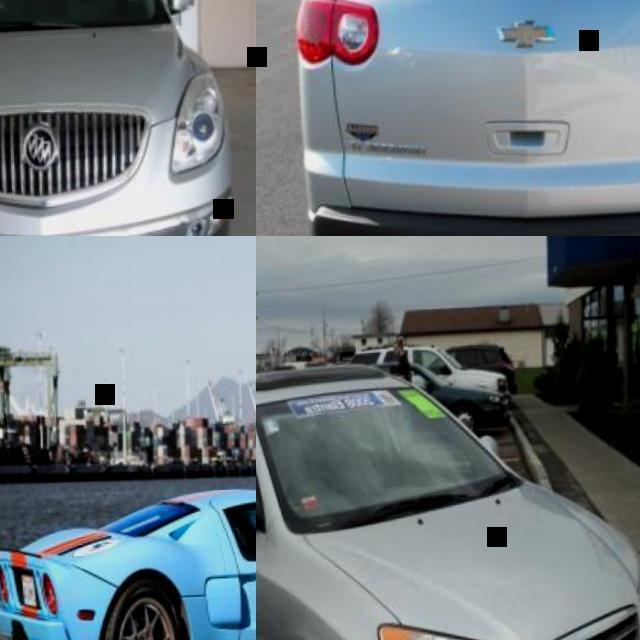car: (196, 335, 637, 639)
